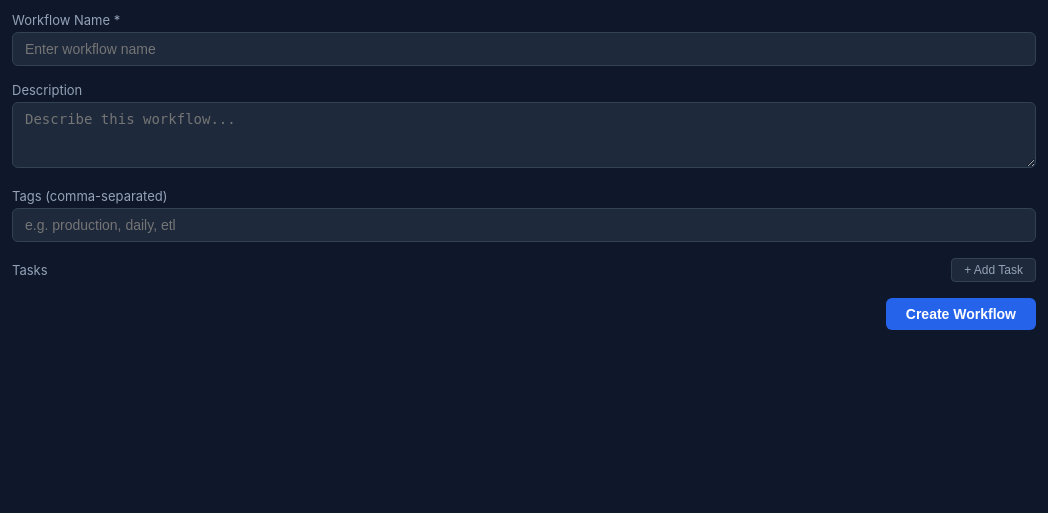
it: WorkflowForm › removes a task when Remove is clicked
Click the button with test id "add-task-button" at [994, 270], box [951,258,1036,282]
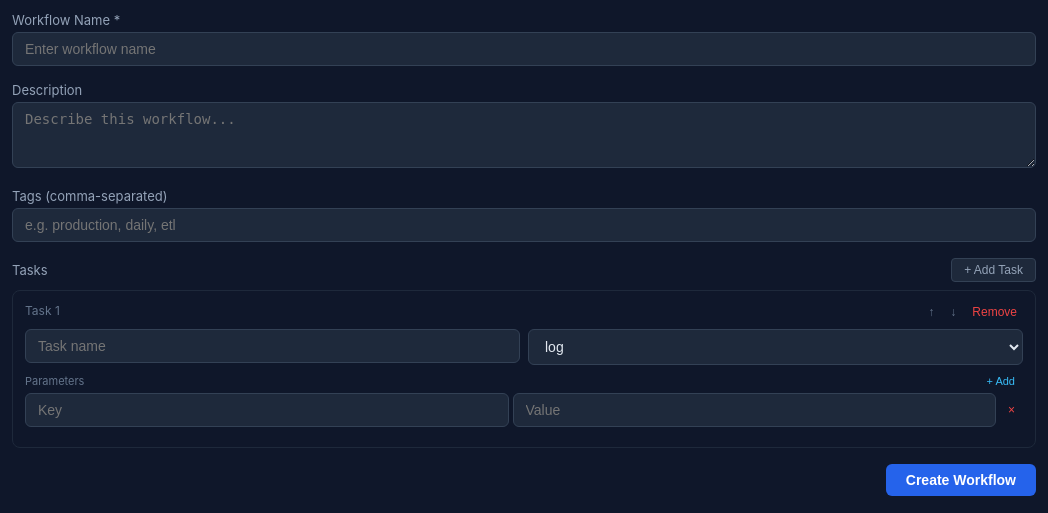
Now the element with test id "task-entry-0" is shown, box [12,290,1036,448]
Click the button with test id "remove-task-0" at [995, 312], box [966,303,1023,321]
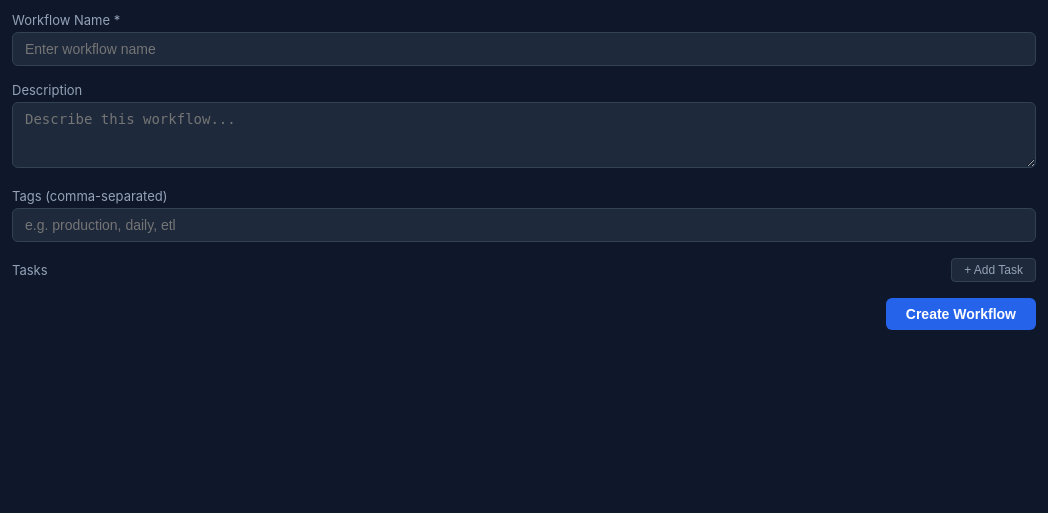
Now the element with test id "task-entry-0" is gone
